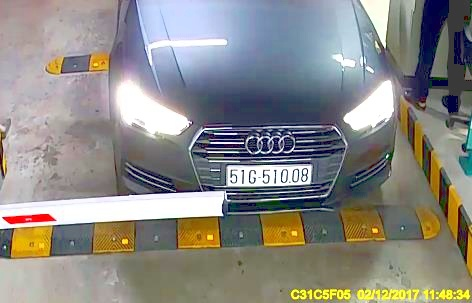plate: (223, 162, 310, 188)
